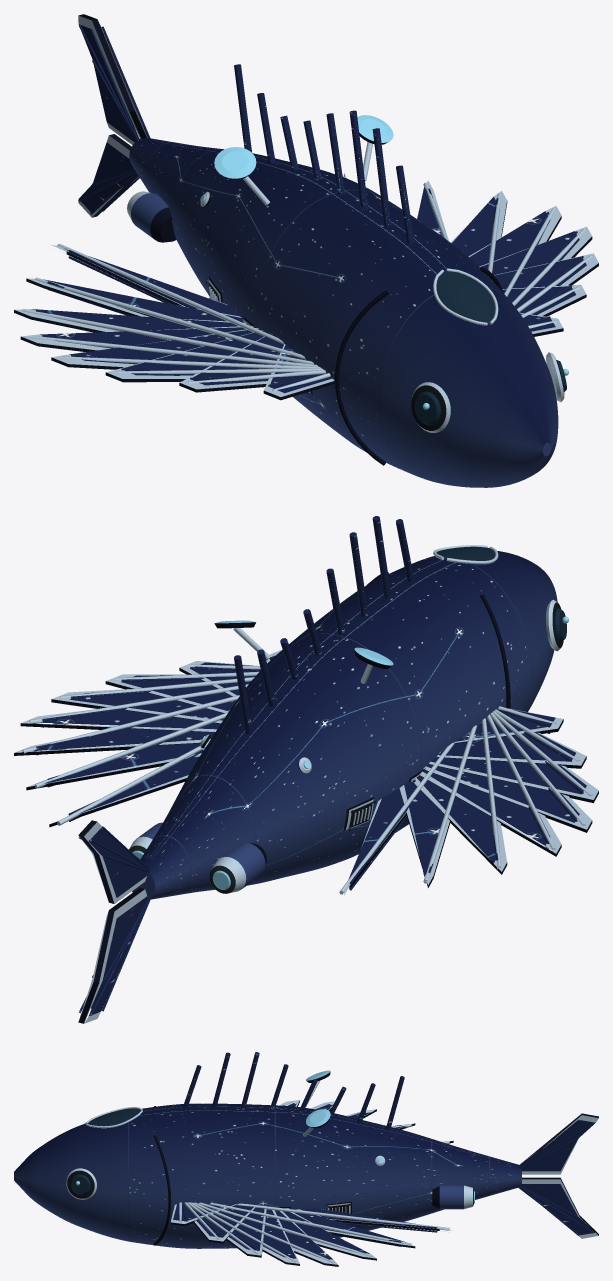
3 renders of one model, top to bottom at view 1: azimuth 30°, elevation 25°; view 2: azimuth 150°, elevation 25°; view 3: azimuth 270°, elevation 25°, orthographic. The views are drawn at different scales.
Parts seen in each view (by area): view 1: lionfish_hull; view 2: lionfish_hull; view 3: lionfish_hull.
Boxes of the visible parts, x1,y1,x2,y2 form: lionfish_hull: (14, 14, 598, 487); lionfish_hull: (14, 516, 598, 1023); lionfish_hull: (14, 1052, 598, 1266).
Size of the model in its own units: 45.14 by 24.54 by 68.
1 material, 1 textured.
